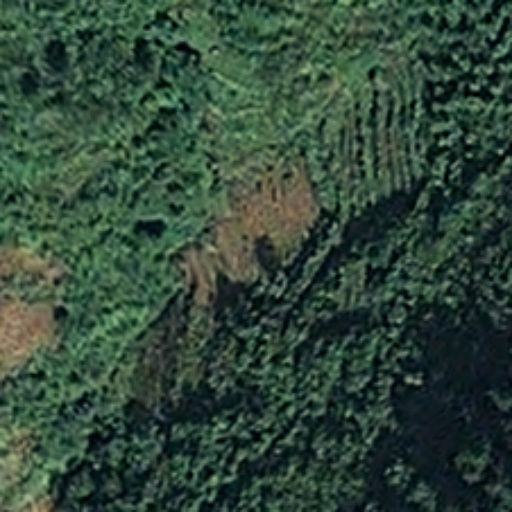landslide: (187, 161, 318, 294)
